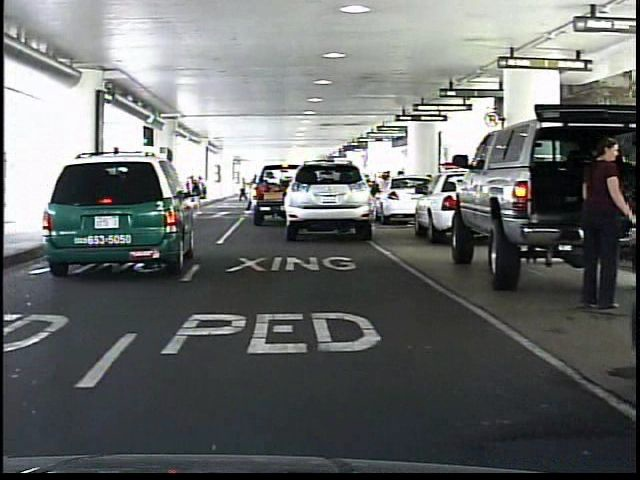person: (565, 133, 633, 316)
